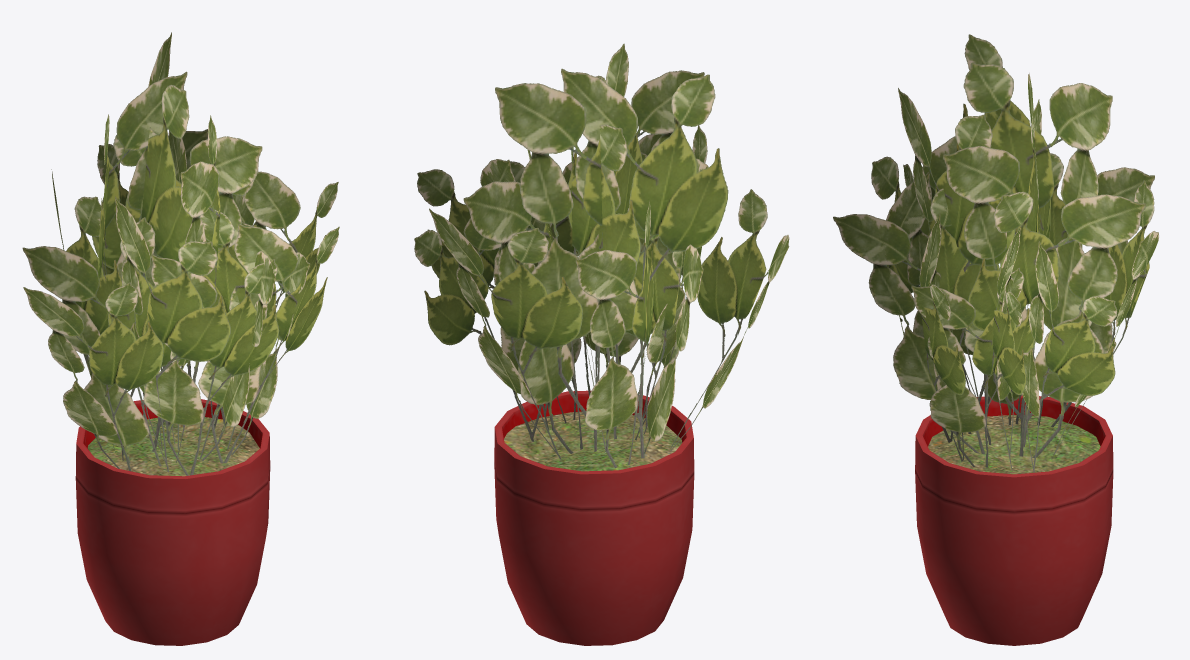
File: MB_Pot_Flower_06.fbx
3 views of the same model, side by side, from view 1: azimuth 30°, elevation 25°; view 2: azimuth 150°, elevation 25°; view 3: azimuth 270°, elevation 25° (orthographic). The views are drawn at different scales.
Visible parts, largest first — view 1: MB_Pot_Flower_06_LOD0; view 2: MB_Pot_Flower_06_LOD0; view 3: MB_Pot_Flower_06_LOD0.
Part boxes in pixels (bbox=[...]): MB_Pot_Flower_06_LOD0: bbox=[22, 32, 339, 645]; MB_Pot_Flower_06_LOD0: bbox=[414, 43, 789, 645]; MB_Pot_Flower_06_LOD0: bbox=[833, 34, 1158, 645].
Size of what is drawn, in the model's own units: 54.86 by 80.54 by 44.96.
